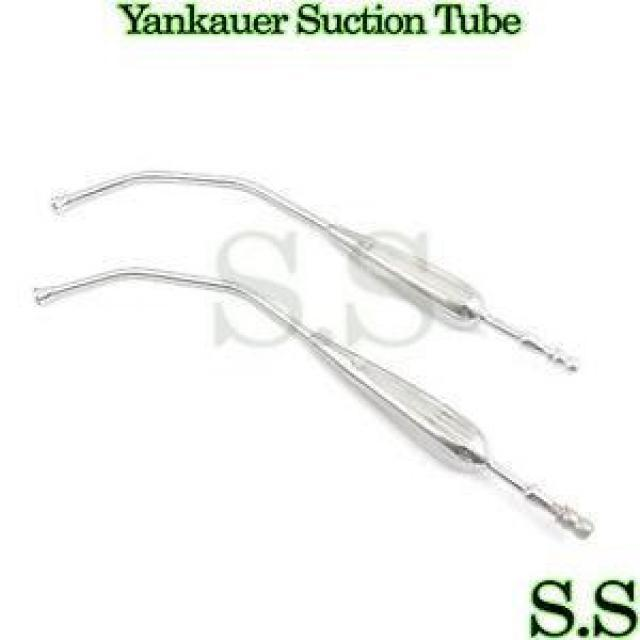Yankauer: (25, 264, 598, 544), (45, 162, 582, 382)
